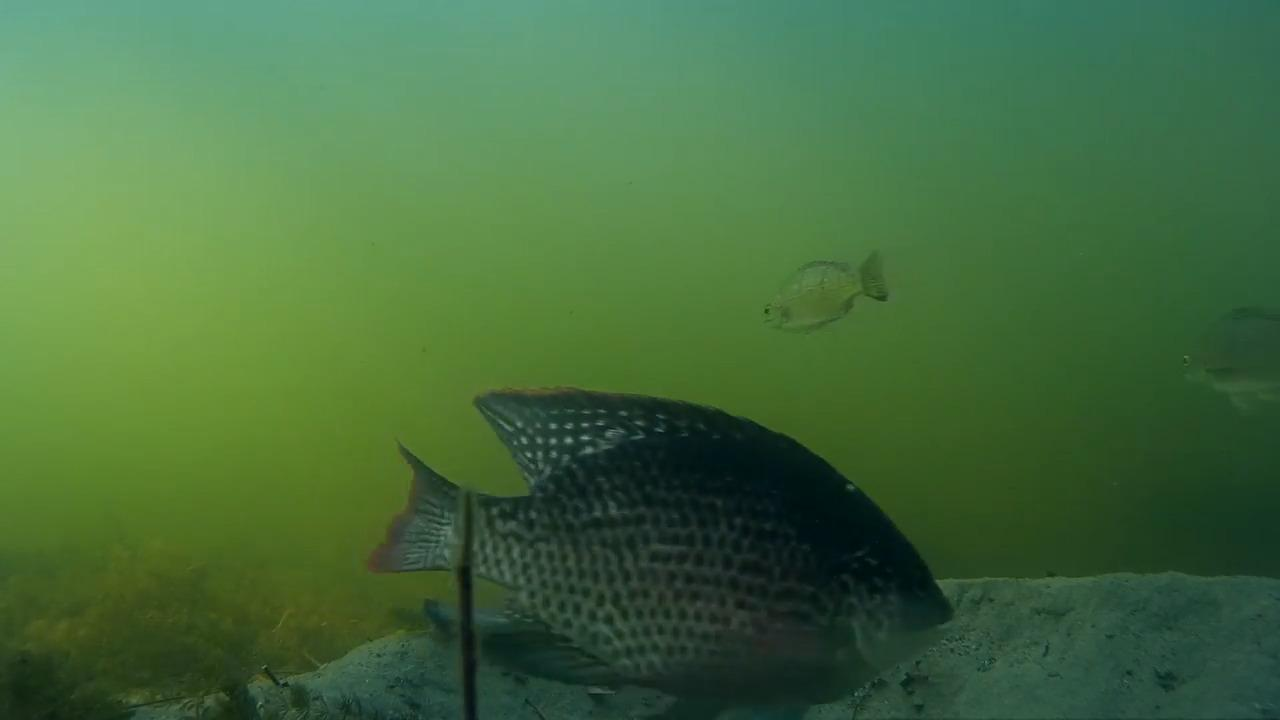Tilapia: (374, 382, 963, 720), (767, 250, 894, 338)
